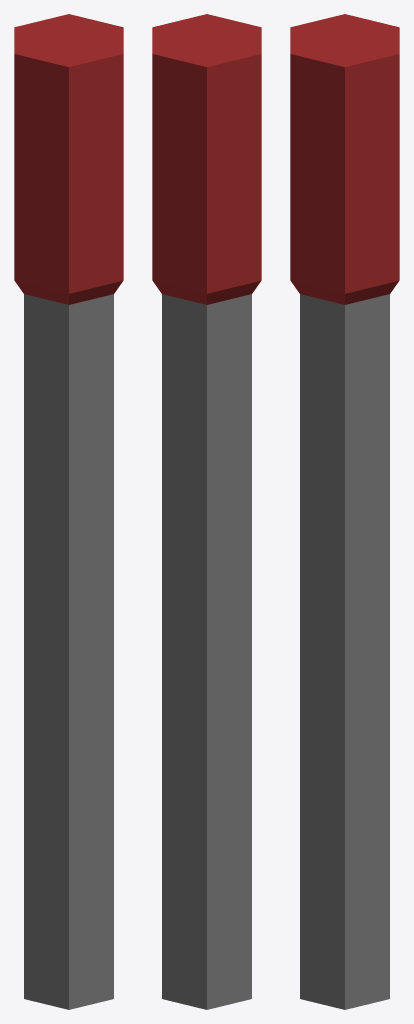
Rendered from Prop_Fantasy_Dungeon_Lever_Switch_Handle_01.FBX.
3 renders of one model, left to right at view 1: azimuth 90°, elevation 25°; view 2: azimuth 150°, elevation 25°; view 3: azimuth 270°, elevation 25°, orthographic.
Parts seen in each view (by area): view 1: Prop_Fantasy_Dungeon_Lever_Switch_Handle_01; view 2: Prop_Fantasy_Dungeon_Lever_Switch_Handle_01; view 3: Prop_Fantasy_Dungeon_Lever_Switch_Handle_01.
Part boxes in pixels (left/top/right/bottom): Prop_Fantasy_Dungeon_Lever_Switch_Handle_01: left=14, top=14, right=123, bottom=1009; Prop_Fantasy_Dungeon_Lever_Switch_Handle_01: left=152, top=14, right=261, bottom=1009; Prop_Fantasy_Dungeon_Lever_Switch_Handle_01: left=290, top=14, right=399, bottom=1009.
Size of the model in its own units: 71.87 by 596 by 62.24.
